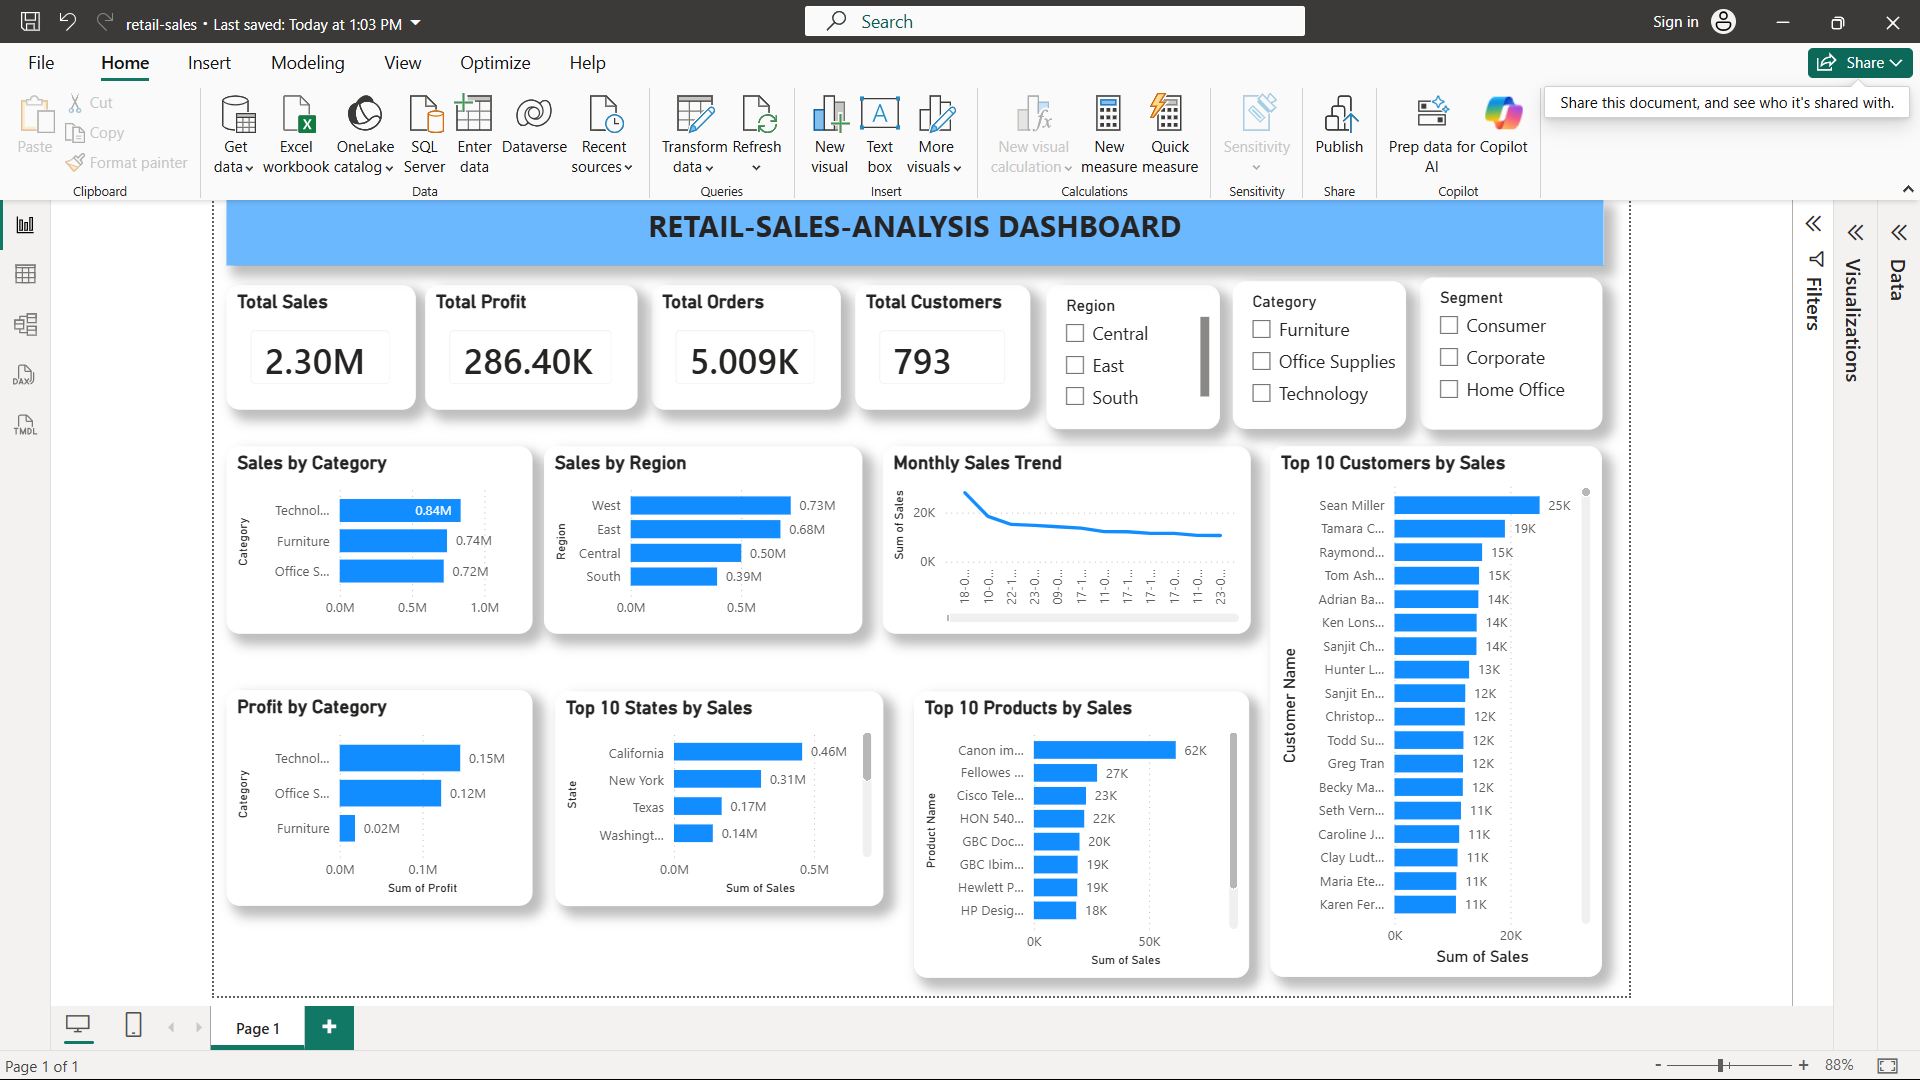

What the dashboard file says about the page in this screenshot:
{"tool":"powerbi","page":{"name":"Page 1","canvas":[1280,720],"ordinal":0},"visuals":[{"type":"cardVisual","title":"Total Sales","fields":{"Data":["Sum(Sample - Superstore.Sales)"]},"box":[11.6,76.7,170.9,112.8],"z":0},{"type":"cardVisual","title":"Total Orders","fields":{"Data":["Count(Sample - Superstore.Order ID)"]},"box":[395.3,76.7,170.9,112.8],"z":1000},{"type":"cardVisual","title":"Total Profit","fields":{"Data":["Sum(Sample - Superstore.Profit)"]},"box":[190.7,76.7,191.9,112.8],"z":2000},{"type":"cardVisual","title":"Total Customers","fields":{"Data":["Count(Sample - Superstore.Customer ID)"]},"box":[580.2,76.7,158.1,112.8],"z":3000},{"type":"clusteredBarChart","title":" Sales by Category","fields":{"Category":["Sample - Superstore.Category"],"Y":["Sum(Sample - Superstore.Sales)"]},"box":[11.6,223.3,276.7,169.8],"z":4000},{"type":"clusteredBarChart","title":" Profit by Category","fields":{"Category":["Sample - Superstore.Category"],"Y":["Sum(Sample - Superstore.Profit)"]},"box":[11.6,443,276.7,195.3],"z":5000},{"type":"clusteredBarChart","title":"Sales by Region","fields":{"Category":["Sample - Superstore.Region"],"Y":["Sum(Sample - Superstore.Sales)"]},"box":[298.8,223.3,288.4,169.8],"z":6000},{"type":"clusteredBarChart","title":"Top 10 States by Sales","fields":{"Category":["Sample - Superstore.State"],"Y":["Sum(Sample - Superstore.Sales)"]},"box":[308.1,444.2,296.5,194.2],"z":7000},{"type":"lineChart","title":"Monthly Sales Trend","fields":{"Y":["Sum(Sample - Superstore.Sales)"],"Category":["Sample - Superstore.Month Year"]},"box":[604.7,223.3,332.6,169.8],"z":8000},{"type":"clusteredBarChart","title":"Top 10 Products by Sales","fields":{"Category":["Sample - Superstore.Product Name"],"Y":["Sum(Sample - Superstore.Sales)"]},"box":[633.7,444.2,303.5,259.3],"z":9000},{"type":"slicer","fields":{"Values":["Sample - Superstore.Region"]},"box":[753.5,76.7,157,130.2],"z":10000},{"type":"textbox","box":[11.6,0,1245.4,59.3],"z":11000},{"type":"slicer","fields":{"Values":["Sample - Superstore.Segment"]},"box":[1090.7,69.8,165.1,137.2],"z":11001},{"type":"slicer","fields":{"Values":["Sample - Superstore.Category"]},"box":[920.9,73.3,157,133.7],"z":11002},{"type":"clusteredBarChart","title":"Top 10 Customers by Sales","fields":{"Category":["Sample - Superstore.Customer Name"],"Y":["Sum(Sample - Superstore.Sales)"]},"box":[955.8,223.3,300,480.2],"z":11003}]}

Visuals, with their boxes on the page's 1280x720 design canvas (x1, y1, x2, y2). These are canvas units, not pixel positions in the 1920x1080 screenshot, which may show the page scaled, cropped or inside an application window:
"Total Sales" cardVisual: <region>12, 77, 182, 190</region>
"Total Orders" cardVisual: <region>395, 77, 566, 190</region>
"Total Profit" cardVisual: <region>191, 77, 383, 190</region>
"Total Customers" cardVisual: <region>580, 77, 738, 190</region>
" Sales by Category" clusteredBarChart: <region>12, 223, 288, 393</region>
" Profit by Category" clusteredBarChart: <region>12, 443, 288, 638</region>
"Sales by Region" clusteredBarChart: <region>299, 223, 587, 393</region>
"Top 10 States by Sales" clusteredBarChart: <region>308, 444, 605, 638</region>
"Monthly Sales Trend" lineChart: <region>605, 223, 937, 393</region>
"Top 10 Products by Sales" clusteredBarChart: <region>634, 444, 937, 704</region>
slicer - Sample - Superstore.Region: <region>754, 77, 910, 207</region>
textbox: <region>12, 0, 1257, 59</region>
slicer - Sample - Superstore.Segment: <region>1091, 70, 1256, 207</region>
slicer - Sample - Superstore.Category: <region>921, 73, 1078, 207</region>
"Top 10 Customers by Sales" clusteredBarChart: <region>956, 223, 1256, 704</region>
